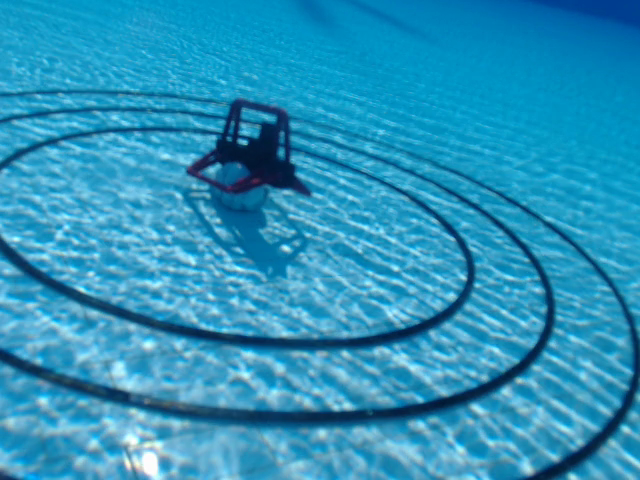submarine: (183, 97, 313, 201)
